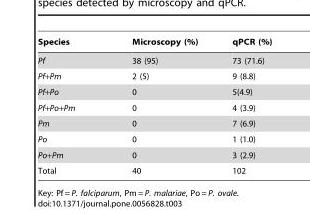table: (37, 37, 271, 174)
table column: (102, 37, 214, 174), (37, 37, 102, 174), (214, 37, 271, 174)
table column header: (37, 37, 271, 50)
table row: (37, 50, 271, 67), (37, 98, 271, 115), (37, 145, 271, 162), (37, 67, 271, 83), (37, 115, 271, 131), (37, 83, 271, 98), (37, 131, 271, 145), (37, 37, 271, 50), (37, 162, 271, 174)
